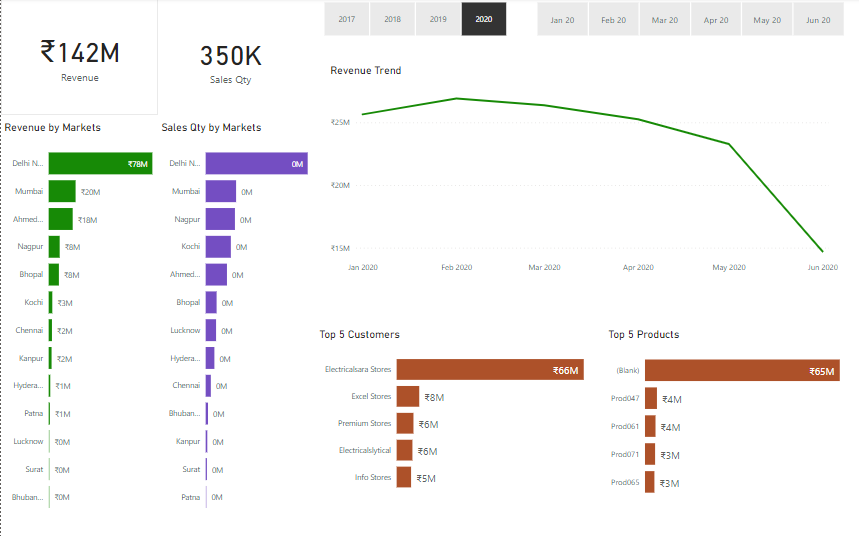

Layout of this report page (visuals, bound fields, positions):
{"tool":"powerbi","page":{"name":"Key Insights","canvas":[1350,850],"ordinal":0},"visuals":[{"type":"card","fields":{"Values":["BaseMeasures (2).Revenue"]},"box":[0,0,247.9,184.6],"z":0},{"type":"card","fields":{"Values":["BaseMeasures (2).Sales Qty"]},"box":[247.9,0,227.9,193.1],"z":1000},{"type":"barChart","title":"Revenue by Markets","fields":{"Y":["BaseMeasures (2).Revenue"],"Category":["sales markets.markets_name"]},"box":[0,193.1,247.9,631.9],"z":2000},{"type":"barChart","title":"Sales Qty by Markets","fields":{"Y":["BaseMeasures (2).Sales Qty"],"Category":["sales markets.markets_name"]},"box":[247.9,193.1,247.9,631.9],"z":3000},{"type":"slicer","fields":{"Values":["sales date.year"]},"box":[483.2,0,335.5,66.5],"z":4000},{"type":"slicer","fields":{"Values":["sales date.cy_date"]},"box":[818.6,0,531.7,66.5],"z":5000},{"type":"barChart","title":"Top 5 Customers","fields":{"Y":["BaseMeasures (2).Revenue"],"Category":["sales customers.custmer_name"]},"box":[495.8,519,446.2,274.3],"z":6000},{"type":"barChart","title":"Top 5 Products","fields":{"Y":["BaseMeasures (2).Revenue"],"Category":["sales products.product_code"]},"box":[950.7,519.2,399.5,282.8],"z":7000},{"type":"lineChart","title":"Revenue Trend","fields":{"Y":["BaseMeasures (2).Revenue"],"Category":["sales date.cy_date"]},"box":[513.8,104.4,809.1,338.6],"z":8000}]}

Visuals, with their boxes in screenshot pixels (x1, y1, x2, y2), scaled from the page's 1350x850 canvas onto the 859x536 screenshot:
card - BaseMeasures (2).Revenue: bbox(0, 0, 158, 116)
card - BaseMeasures (2).Sales Qty: bbox(158, 0, 303, 122)
"Revenue by Markets" barChart: bbox(0, 122, 158, 520)
"Sales Qty by Markets" barChart: bbox(158, 122, 315, 520)
slicer - sales date.year: bbox(307, 0, 521, 42)
slicer - sales date.cy_date: bbox(521, 0, 858, 42)
"Top 5 Customers" barChart: bbox(315, 327, 599, 500)
"Top 5 Products" barChart: bbox(605, 327, 858, 506)
"Revenue Trend" lineChart: bbox(327, 66, 842, 279)
